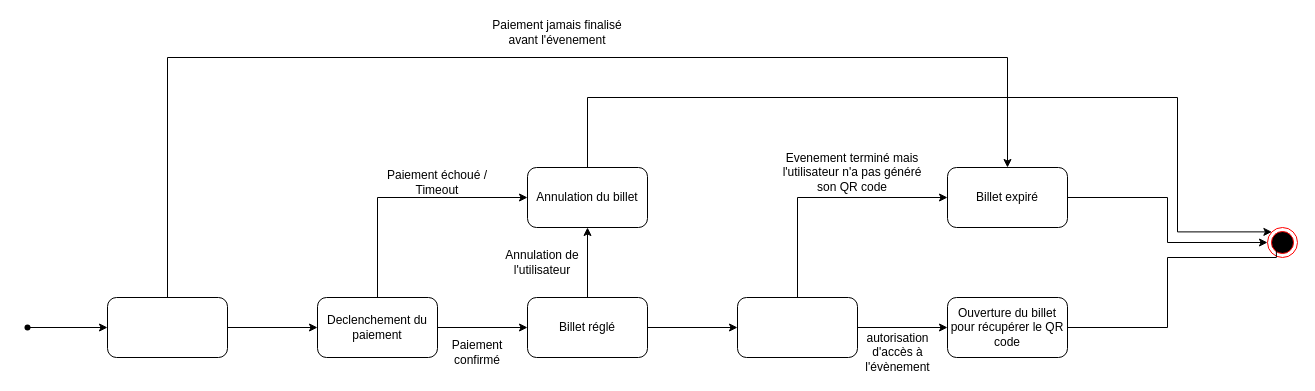
This 1315x391 diagram has some shape labels left out. The shapes that lost their labels are listed below. From the top down, each one's centre as x and y in pixels, then its label:
At [167,327]: "Reservation d'un billet".
At [797,327]: "Validation du billet".
